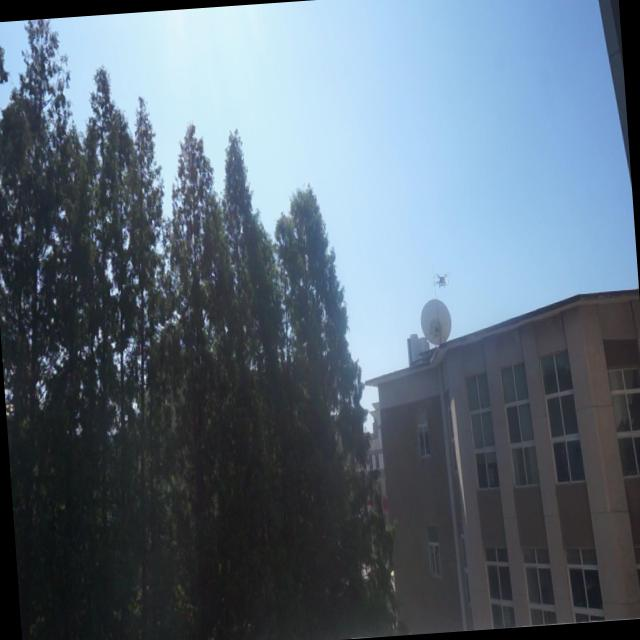drone: (432, 265, 454, 291)
